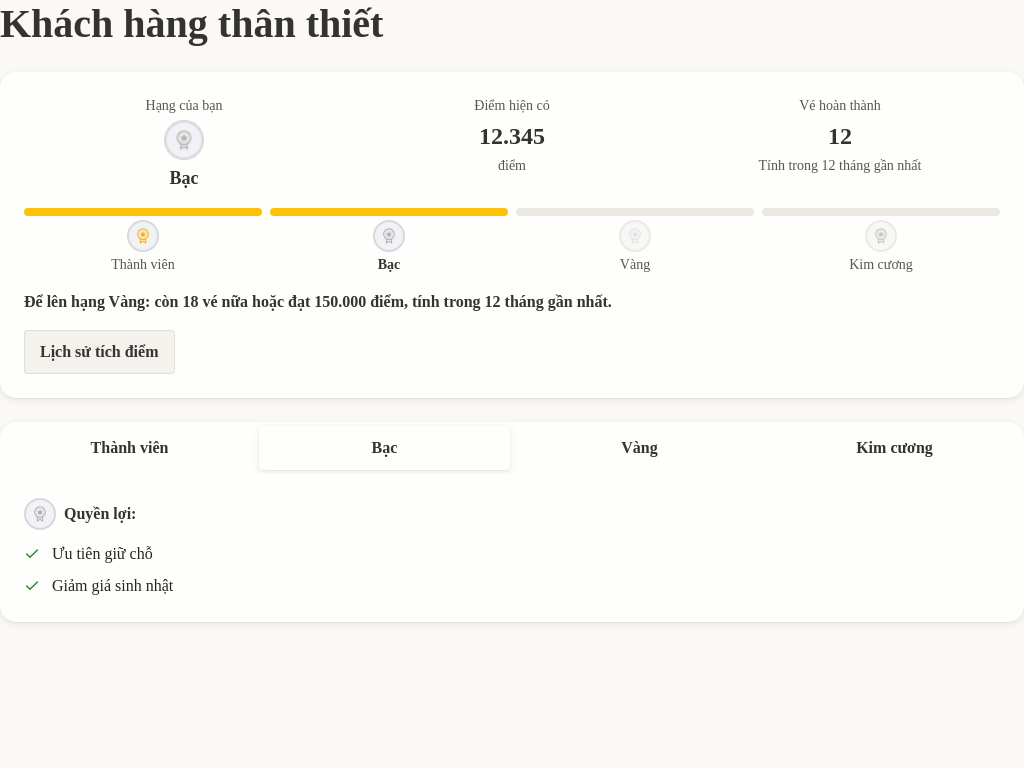
Test: LoyaltyPage › lịch sử rỗng vẫn mở được và báo chưa có giao dịch
Click the button "Lịch sử tích điểm" at (99, 352), box [24, 330, 174, 374]
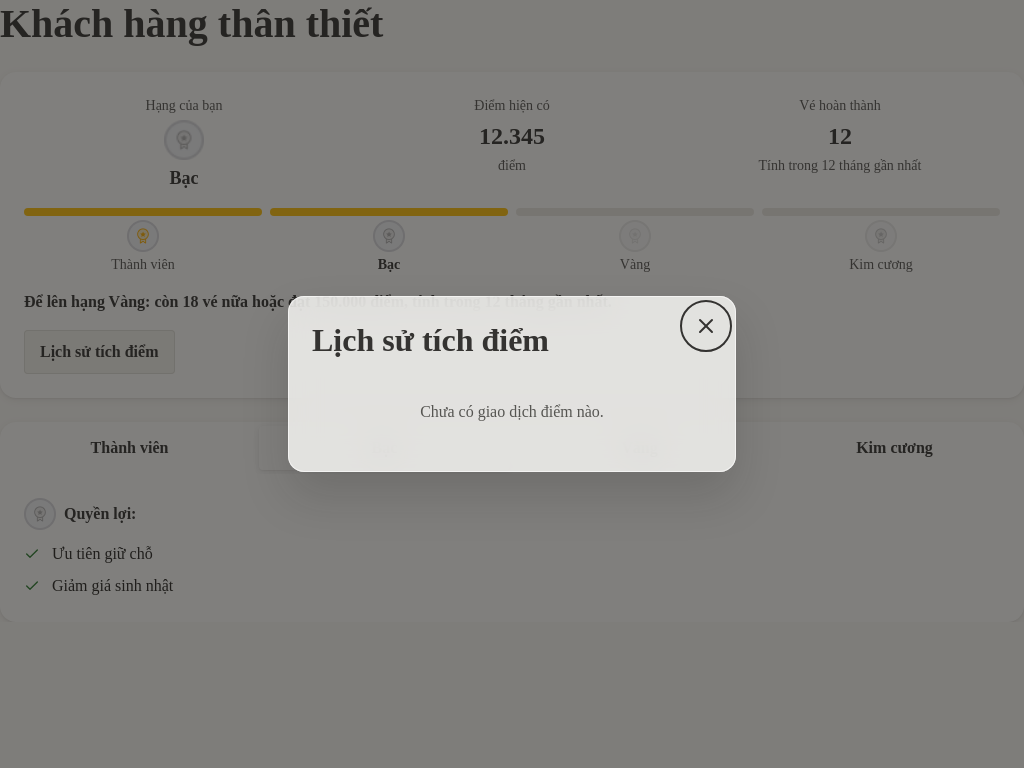
Expected: the text "Chưa có giao dịch điểm nào." is shown, [420, 403, 604, 420]
